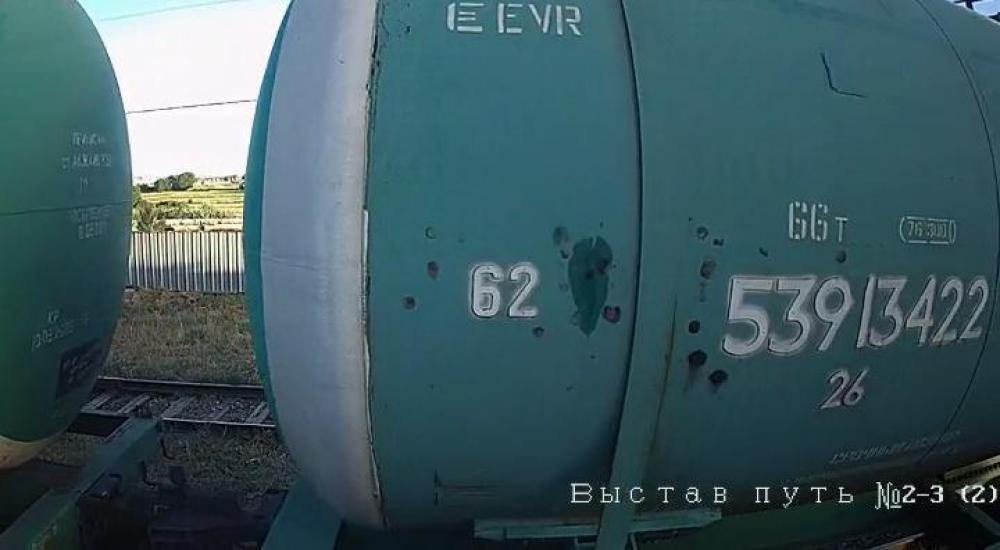Wagon-number: (717, 267, 992, 361)
